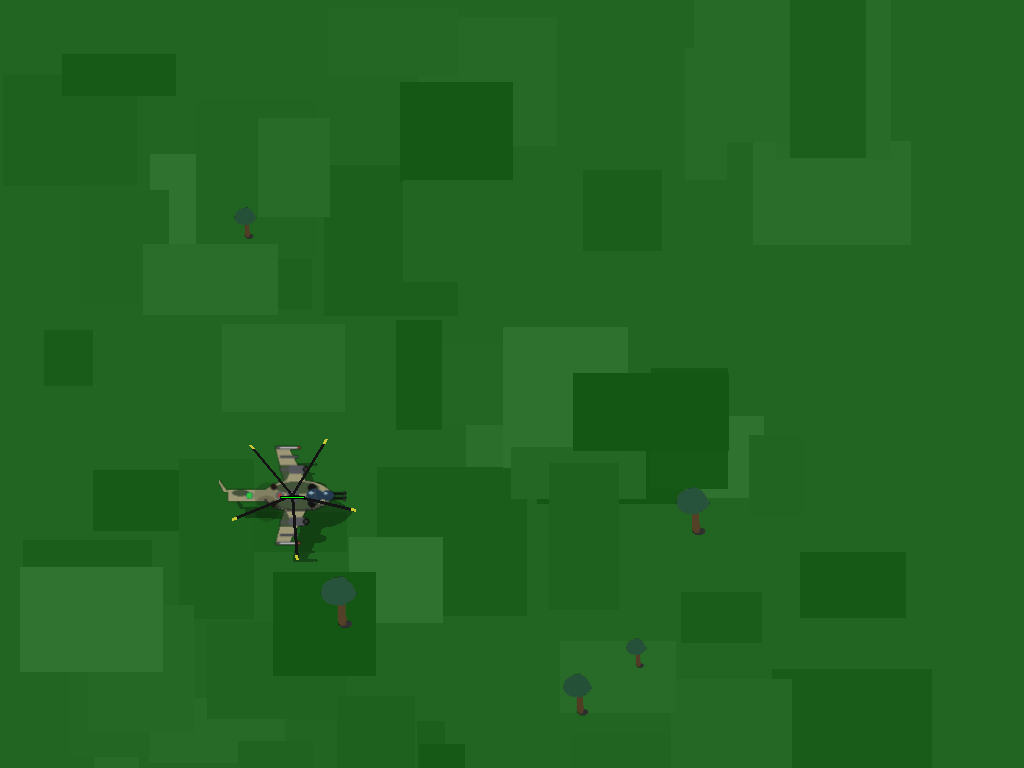Barracks: (256, 458, 328, 530)
